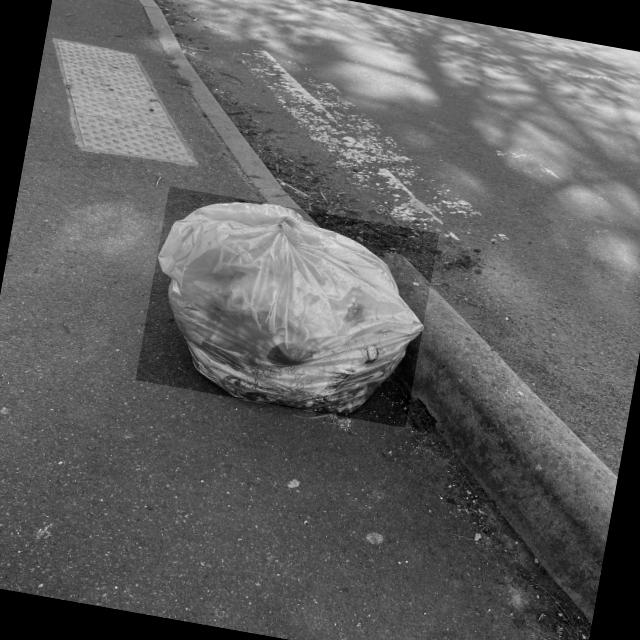Garbage bag: (157, 203, 422, 414)
